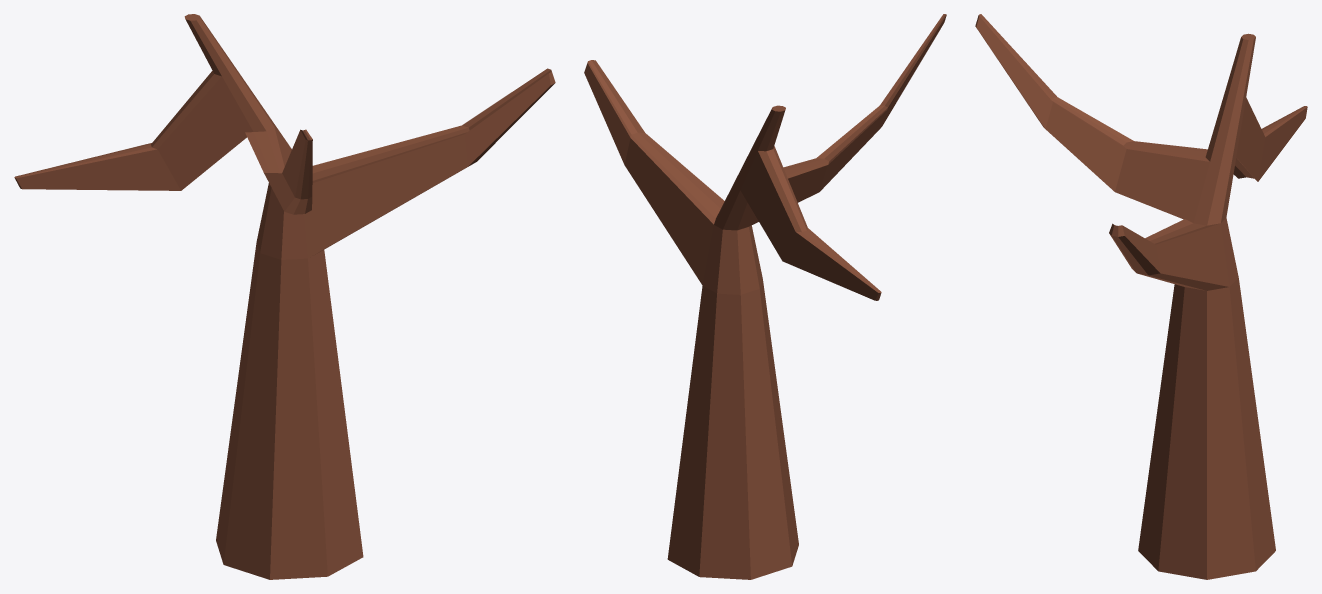
The model's file is bush_5_spring_mat.fbx.
The picture shows the model from 3 angles, left to right: view 1: azimuth 30°, elevation 25°; view 2: azimuth 150°, elevation 25°; view 3: azimuth 270°, elevation 25°; orthographic projection. The views are drawn at different scales.
Parts seen in each view (by area): view 1: bush_5_spring_mat; view 2: bush_5_spring_mat; view 3: bush_5_spring_mat.
Boxes of the visible parts, <box> form: bush_5_spring_mat: <box>14,14,555,579</box>; bush_5_spring_mat: <box>584,14,946,579</box>; bush_5_spring_mat: <box>975,14,1307,579</box>.
Size of the model in its own units: 0.789 by 0.9306 by 0.5763.
